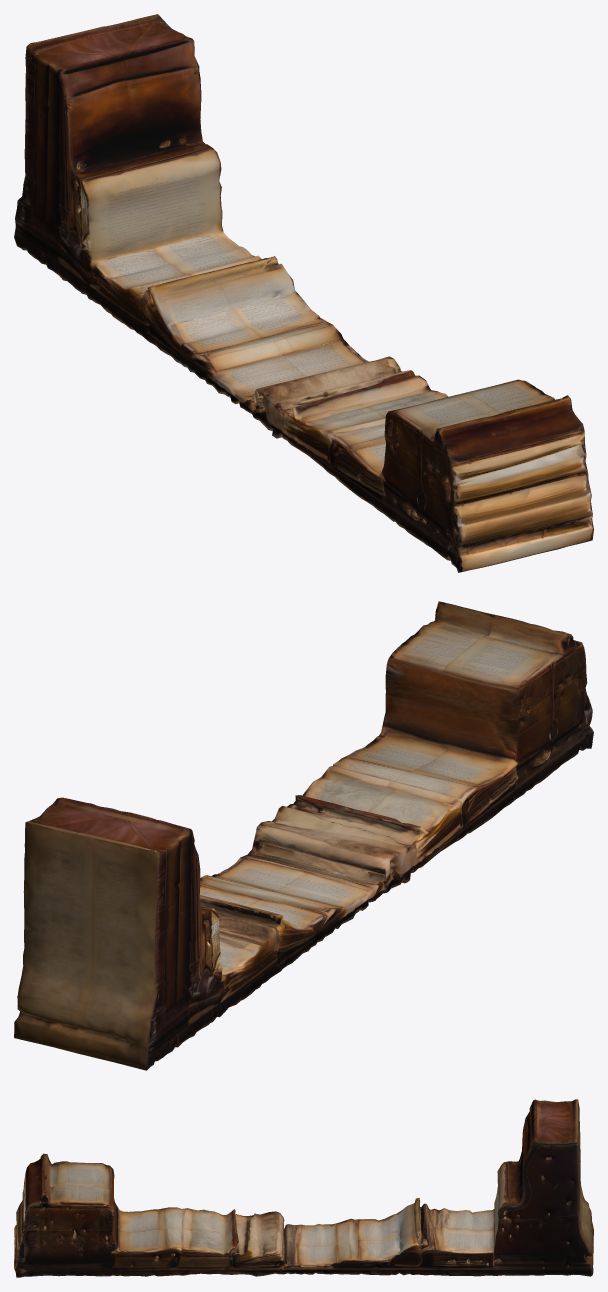
Rendered from generated_scene.glb.
The picture shows the model from 3 angles, top to bottom: view 1: azimuth 30°, elevation 25°; view 2: azimuth 150°, elevation 25°; view 3: azimuth 270°, elevation 25°; orthographic projection. The views are drawn at different scales.
Bounding box in the file's own units: 0.3518 × 0.5287 × 2.01.
Materials: 1 (1 with a texture image).
